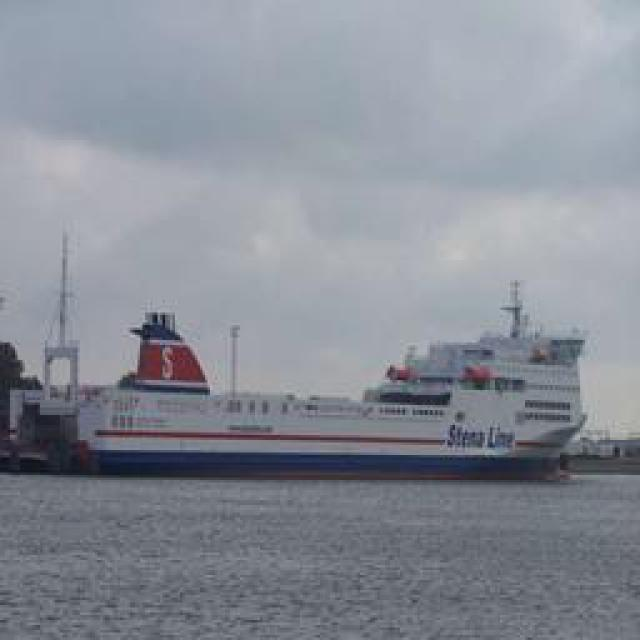Ship: (65, 281, 590, 479)
